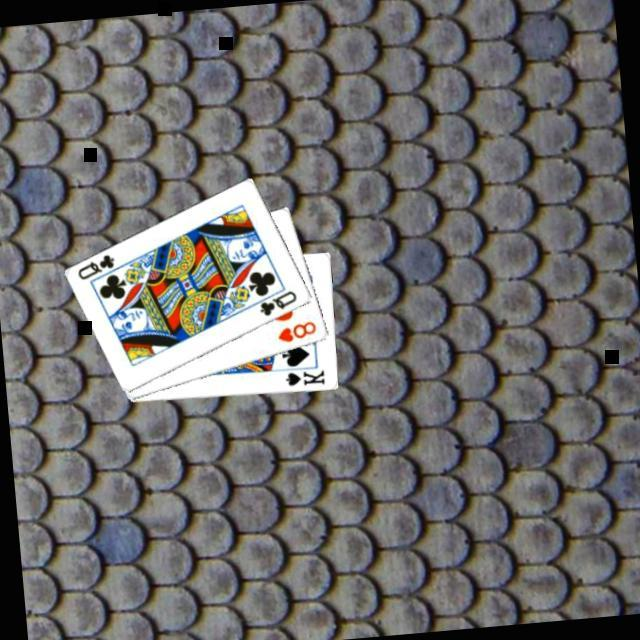8H: (272, 317, 319, 345)
KS: (279, 365, 327, 389)
QC: (71, 249, 117, 283), (253, 286, 299, 319)
